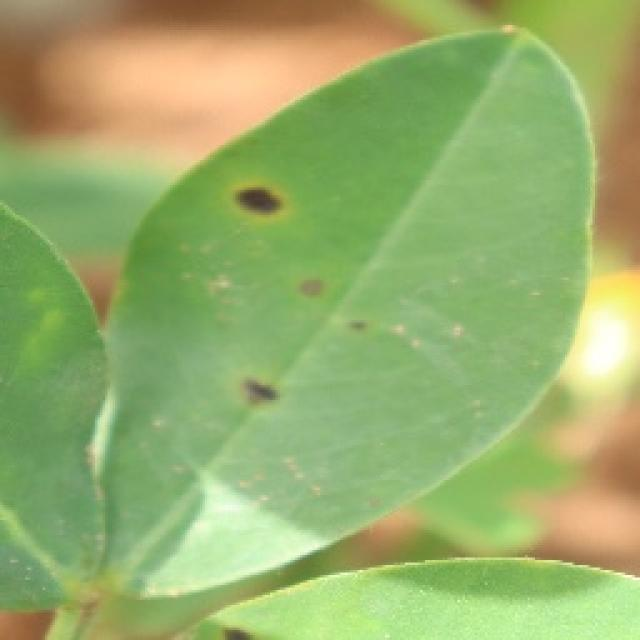Early_leaf_spot: (287, 256, 392, 373), (201, 363, 310, 438), (220, 164, 300, 247)
